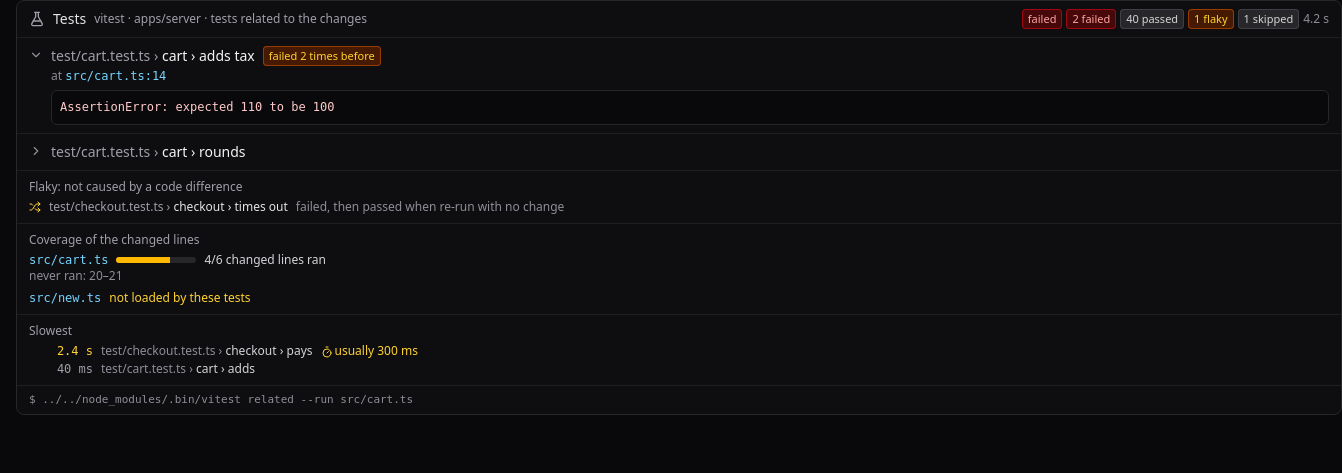
test run card › shows the outcome, each failure with its first error and location, flaky and slow tests, and coverage
The width and height of the screenshot is (1342, 473).
Expected: the text "2 failed" is shown, [1066,9,1116,29]
Expected: the text "40 passed" is shown, [1120,9,1184,29]
Click the button named "Show the error of cart › rounds".
click(36, 151)  # box [29,144,43,158]
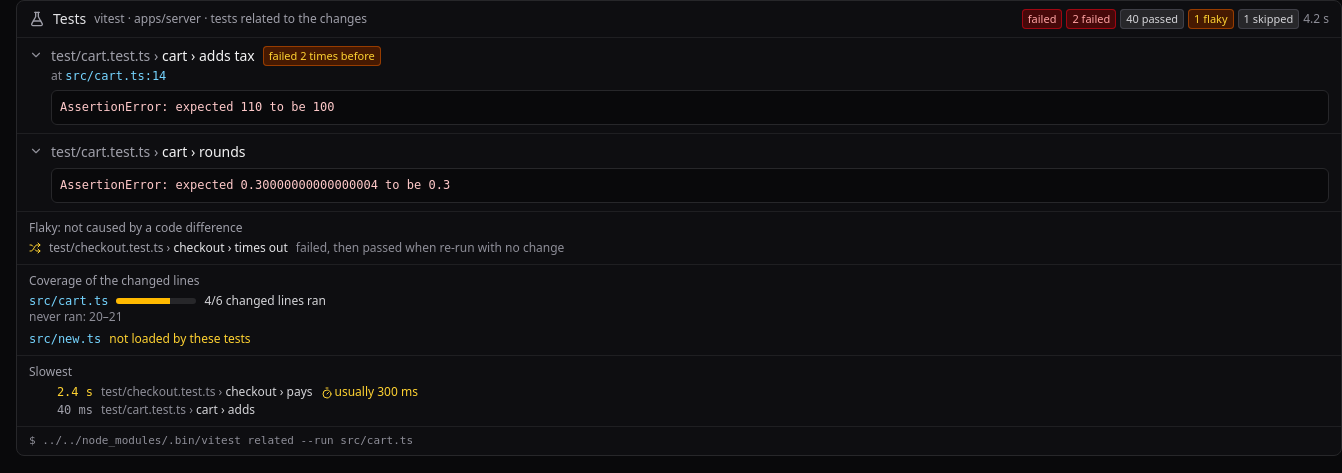
Expected: the button "src/cart.ts:14" is shown, [65,68,166,84]
Expected: the text "AssertionError: expected 0.30000000000000004 to be 0.3" is shown, [51,168,1329,203]
